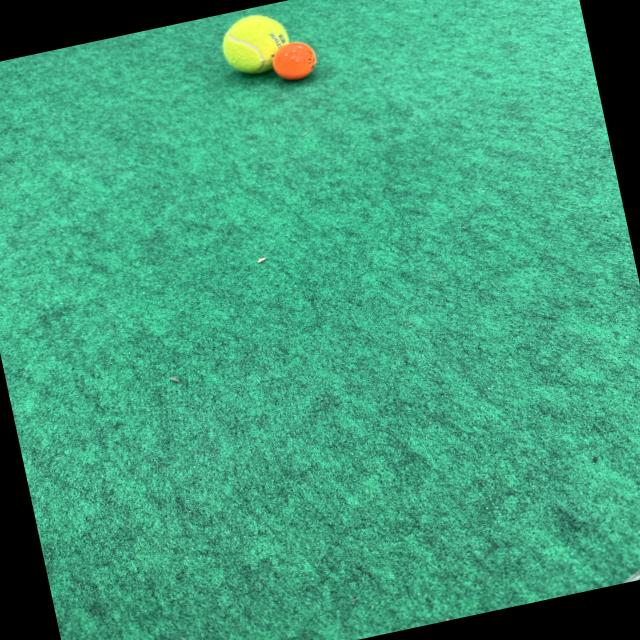ball: (268, 35, 321, 84)
